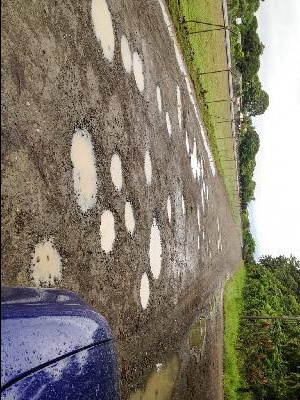pothole: (68, 124, 101, 214), (27, 235, 64, 288), (89, 0, 116, 62), (99, 205, 119, 252), (149, 214, 162, 280), (131, 49, 147, 95), (111, 152, 127, 191), (122, 198, 138, 236), (119, 31, 133, 72), (138, 270, 151, 310), (177, 85, 187, 129), (142, 149, 153, 184), (190, 138, 199, 180), (165, 193, 174, 229), (166, 109, 174, 138), (156, 84, 164, 112), (184, 128, 191, 155), (180, 192, 187, 216)
